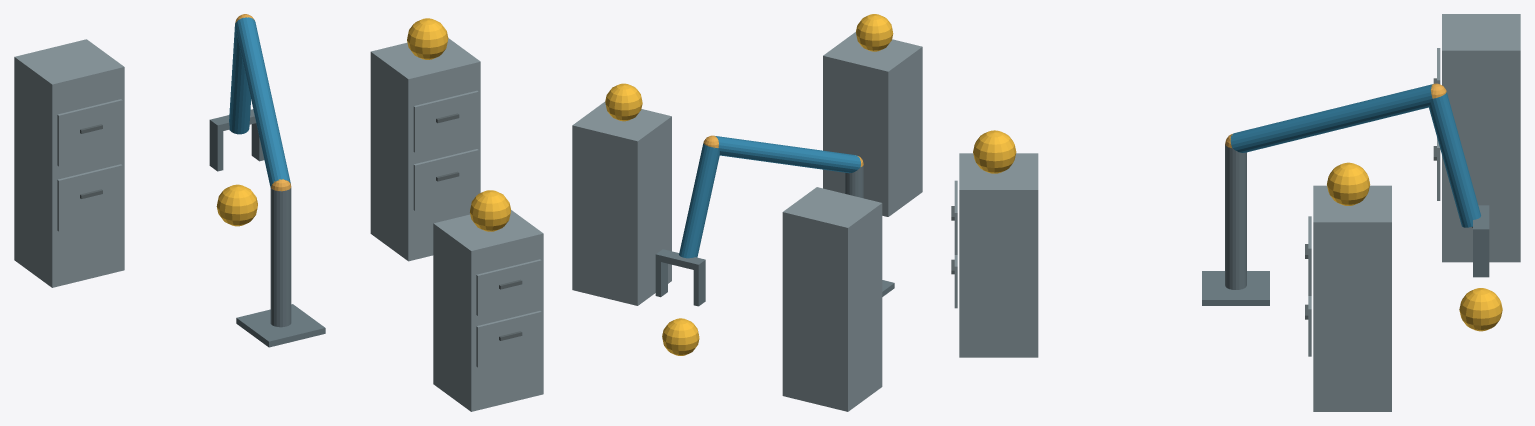
3 renders of one model, left to right at view 1: azimuth 30°, elevation 25°; view 2: azimuth 150°, elevation 25°; view 3: azimuth 270°, elevation 25°, orthographic. The views are drawn at different scales.
Parts seen in each view (by area): view 1: cabinet_3 body, cabinet_2 body, cabinet_1 body, moving link 1, cabinet_3 drawer front, cabinet_3 drawer front.001, cabinet_2 drawer front.001, cabinet_2 drawer front, fixed post, cabinet_1 drawer front, cabinet_1 drawer front.001, pedestal (+5 smaller); view 2: cabinet_3 body, cabinet_2 body, cabinet_1 body, moving link 1, moving link 2, released ball_2, ball ball_3, released ball_1, gripper bridge, fixed post, gripper finger -1, gripper finger 1; view 3: cabinet_2 body, cabinet_3 body, cabinet_1 body, moving link 1, fixed post, moving link 2, pedestal, released ball_1, ball ball_3, released ball_2, gripper finger 1.
Boxes of the visible parts, x1,y1,x2,y2 form: cabinet_3 body: [14, 39, 124, 287]; cabinet_2 body: [370, 38, 480, 261]; cabinet_1 body: [433, 210, 543, 411]; moving link 1: [235, 17, 290, 187]; cabinet_3 drawer front: [57, 164, 122, 231]; cabinet_3 drawer front.001: [57, 99, 122, 166]; cabinet_2 drawer front.001: [413, 90, 478, 152]; cabinet_2 drawer front: [413, 149, 478, 210]; fixed post: [270, 187, 291, 327]; cabinet_1 drawer front: [476, 311, 541, 367]; cabinet_1 drawer front.001: [476, 259, 541, 315]; pedestal: [236, 304, 325, 347]; cabinet_3 body: [782, 187, 882, 411]; cabinet_2 body: [572, 101, 671, 305]; cabinet_1 body: [823, 32, 922, 216]; moving link 1: [715, 136, 860, 173]; moving link 2: [679, 143, 719, 258]; released ball_2: [605, 83, 642, 121]; ball ball_3: [662, 318, 699, 355]; released ball_1: [856, 14, 893, 51]; gripper bridge: [655, 249, 705, 271]; fixed post: [845, 165, 863, 198]; gripper finger -1: [693, 266, 705, 306]; gripper finger 1: [655, 261, 667, 297]; cabinet_2 body: [1313, 185, 1391, 411]; cabinet_3 body: [1442, 14, 1520, 262]; cabinet_1 body: [959, 153, 1038, 357]; moving link 1: [1230, 84, 1432, 152]; fixed post: [1225, 144, 1246, 289]; moving link 2: [1428, 92, 1480, 227]; pedestal: [1202, 271, 1269, 305]; released ball_1: [973, 130, 1016, 173]; ball ball_3: [1459, 288, 1502, 331]; released ball_2: [1327, 162, 1370, 205]; gripper finger 1: [1473, 236, 1489, 277].
Size of the model in its own units: 1.62 by 0.9661 by 2.1.
